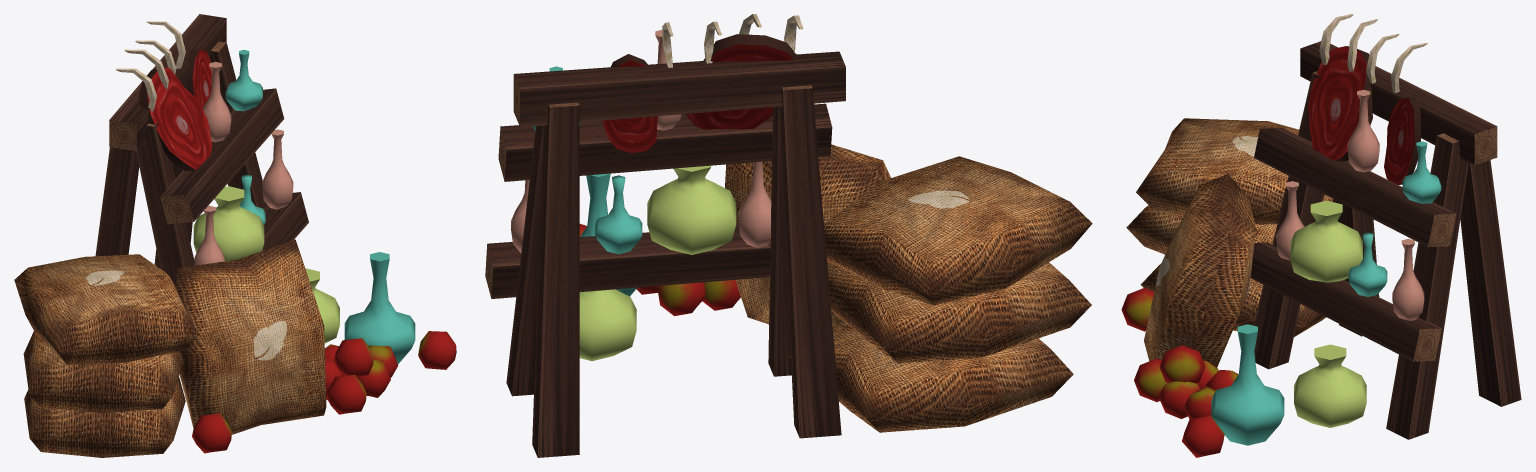
File: Tablefood2.FBX
3 renders of one model, left to right at view 1: azimuth 30°, elevation 25°; view 2: azimuth 150°, elevation 25°; view 3: azimuth 270°, elevation 25°, orthographic. The views are drawn at different scales.
Visible parts, largest first — view 1: prop1, prop2; view 2: prop1, prop2; view 3: prop1, prop2.
Boxes of the visible parts, x1,y1,x2,y2 form: prop1: (14,21,456,457); prop2: (95,14,308,286); prop1: (511,14,1092,432); prop2: (485,51,845,457); prop1: (1121,14,1441,457); prop2: (1250,41,1521,439).
Size of the model in its own units: 63.67 by 46.23 by 50.28.
